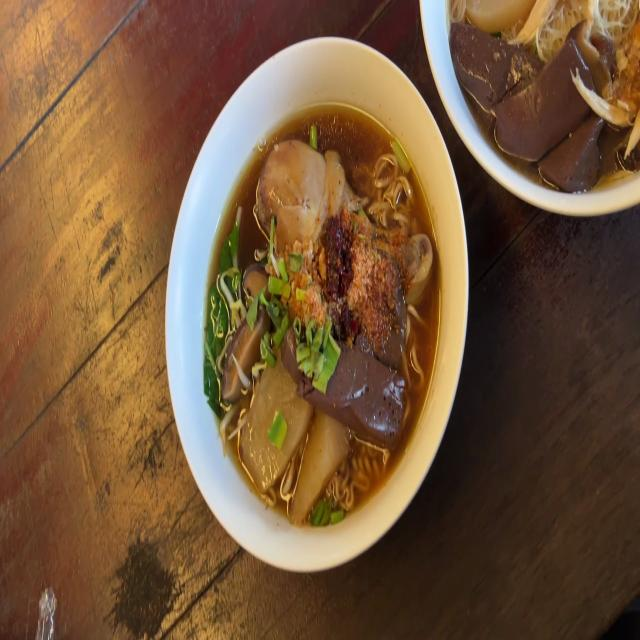noodle: (456, 32, 602, 183), (318, 339, 406, 431)
